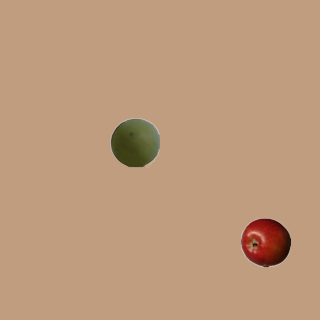Apple Braeburn: (240, 217, 290, 267)
Grape White 4: (109, 117, 159, 167)
